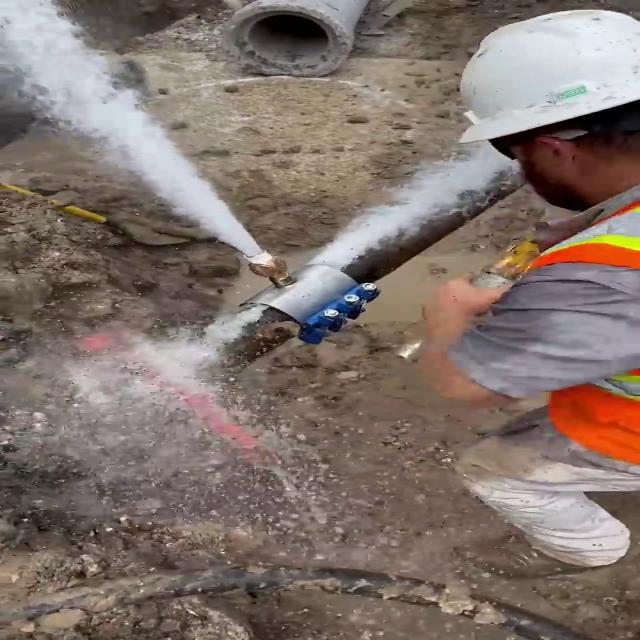leak: (0, 302, 286, 550), (312, 126, 524, 273)
